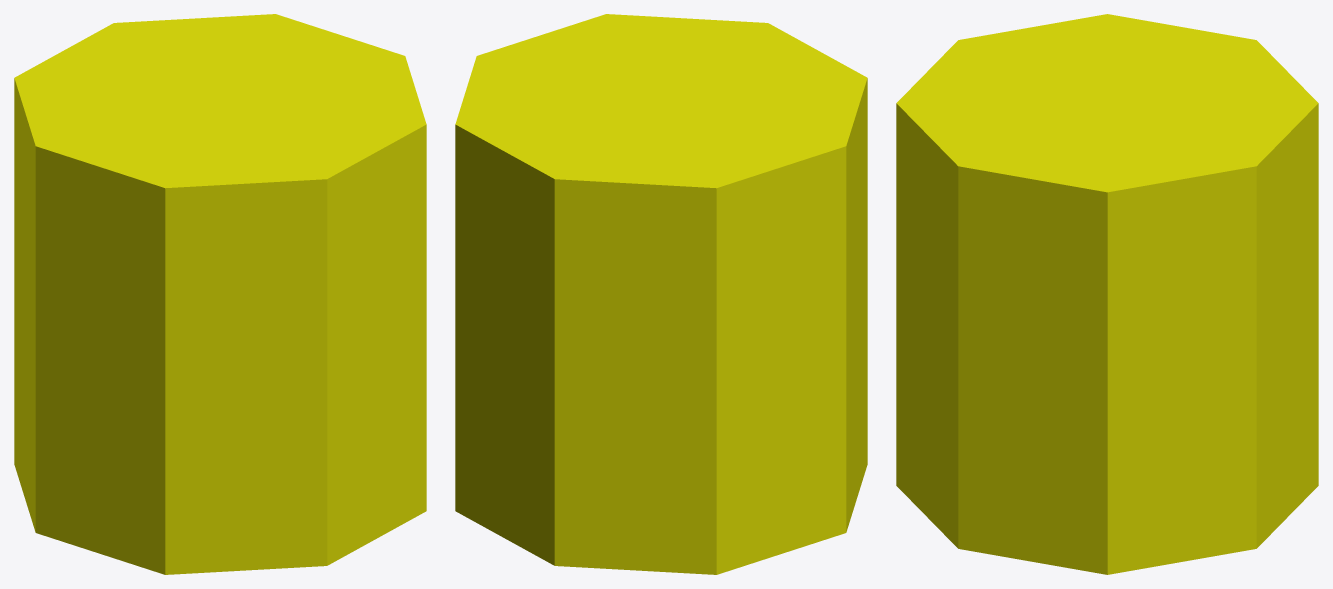
File: SM_Primitive_Cylander_02.glb
3 views of the same model, side by side, from view 1: azimuth 30°, elevation 25°; view 2: azimuth 150°, elevation 25°; view 3: azimuth 270°, elevation 25° (orthographic).
Visible parts, largest first — view 1: SM_Primitive_Cylander_02; view 2: SM_Primitive_Cylander_02; view 3: SM_Primitive_Cylander_02.
Boxes of the visible parts, x1,y1,x2,y2 form: SM_Primitive_Cylander_02: [14, 14, 426, 574]; SM_Primitive_Cylander_02: [455, 14, 867, 574]; SM_Primitive_Cylander_02: [896, 14, 1318, 574].
Size of the model in its own units: 1 by 1 by 1.
Materials: 1 (1 with a texture image).
